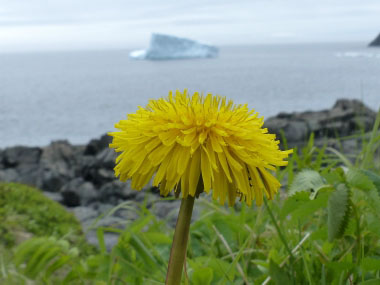dandelion: (112, 106, 279, 196)
